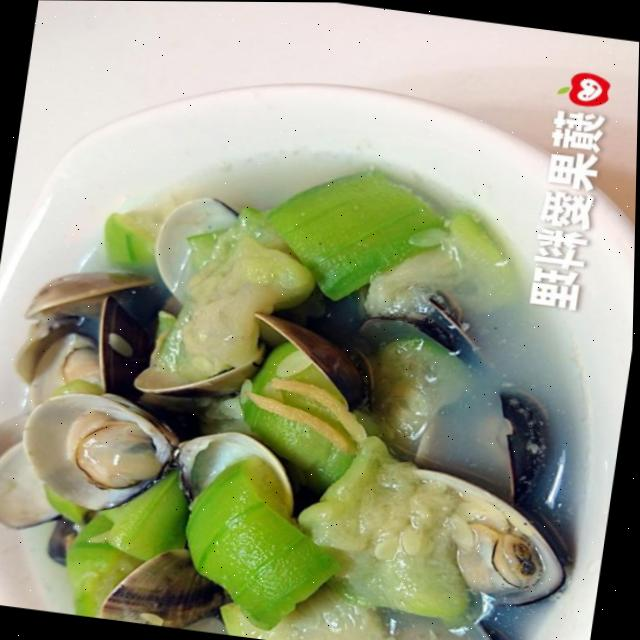Wet: (0, 178, 637, 640)
